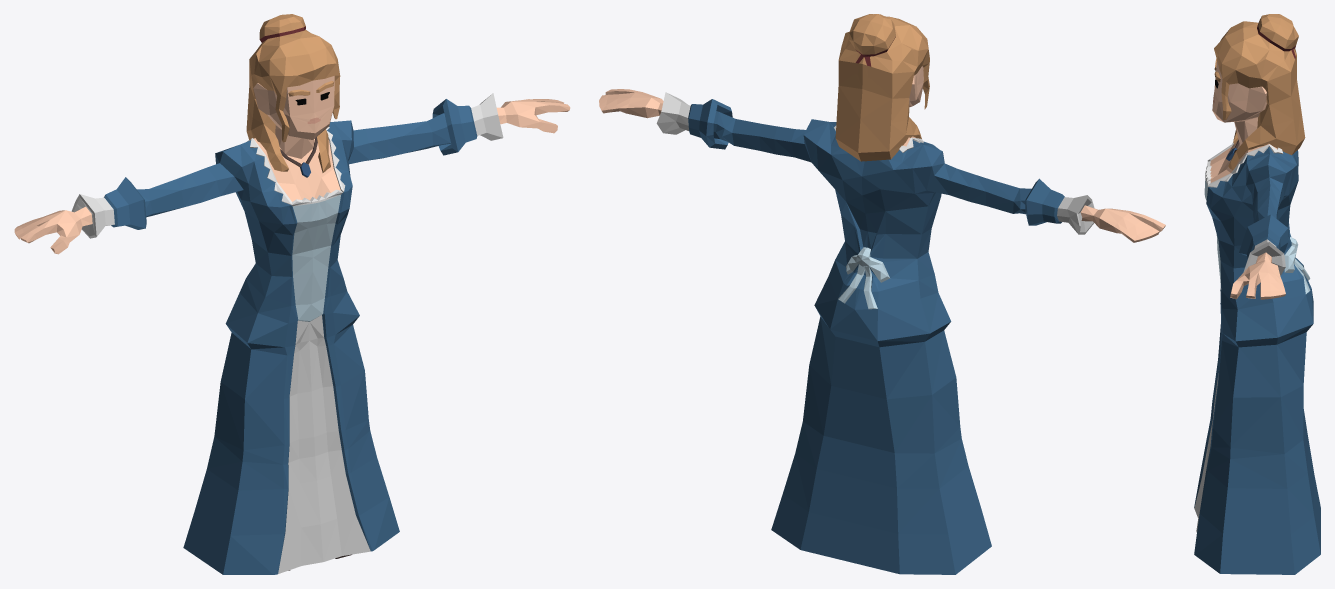
Rendered from aldeana.fbx.
3 views of the same model, side by side, from view 1: azimuth 30°, elevation 25°; view 2: azimuth 150°, elevation 25°; view 3: azimuth 270°, elevation 25° (orthographic). The views are drawn at different scales.
Visible parts, largest first — view 1: Character_Governors_Daughter_01; view 2: Character_Governors_Daughter_01; view 3: Character_Governors_Daughter_01.
Boxes of the visible parts, x1,y1,x2,y2 form: Character_Governors_Daughter_01: [14, 14, 570, 574]; Character_Governors_Daughter_01: [599, 14, 1165, 574]; Character_Governors_Daughter_01: [1194, 14, 1320, 574].
Size of the model in its own units: 80.37 by 16.23 by 74.08.
Materials: 1 (1 with a texture image).
